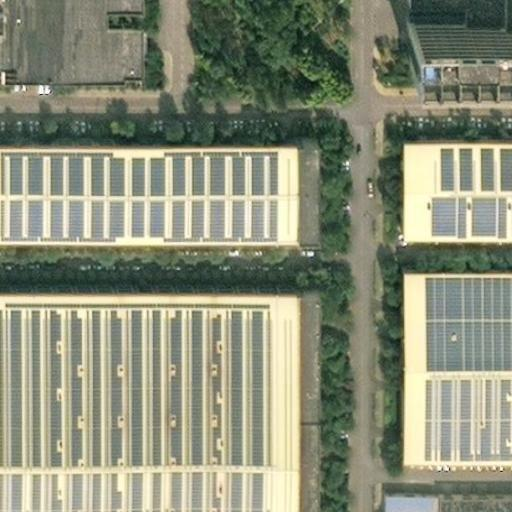building: (398, 261, 512, 451), (399, 129, 512, 226), (287, 276, 307, 512), (398, 13, 512, 54), (371, 485, 512, 512), (288, 134, 321, 241)
